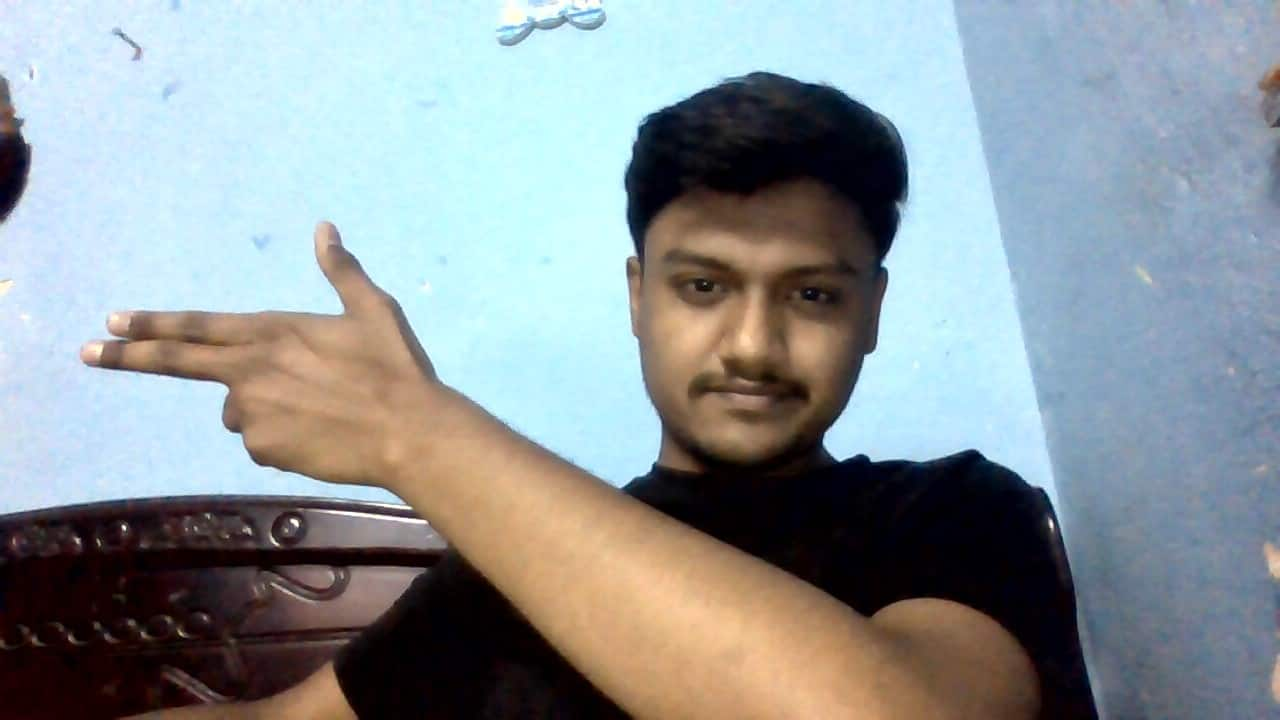hand: (78, 219, 438, 489)
